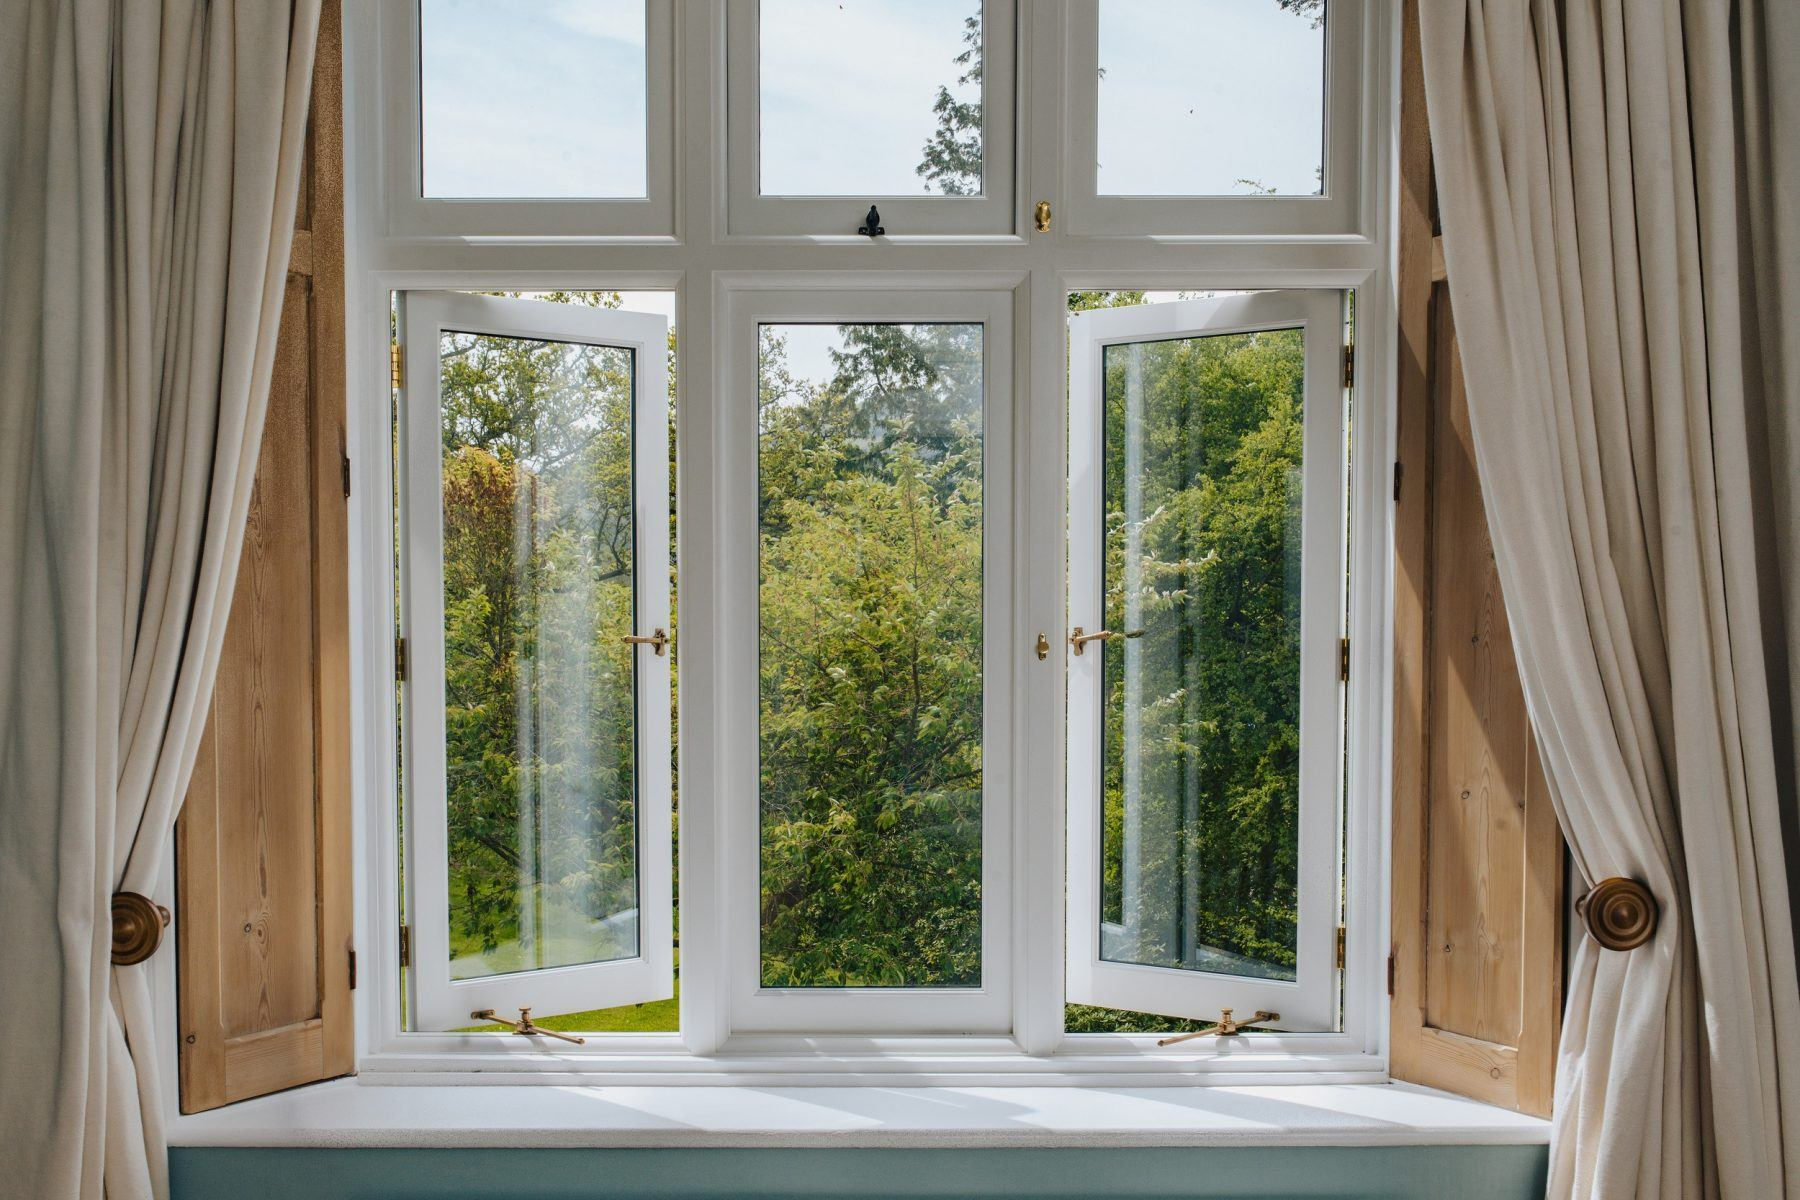Window: (383, 1, 1366, 1049)
